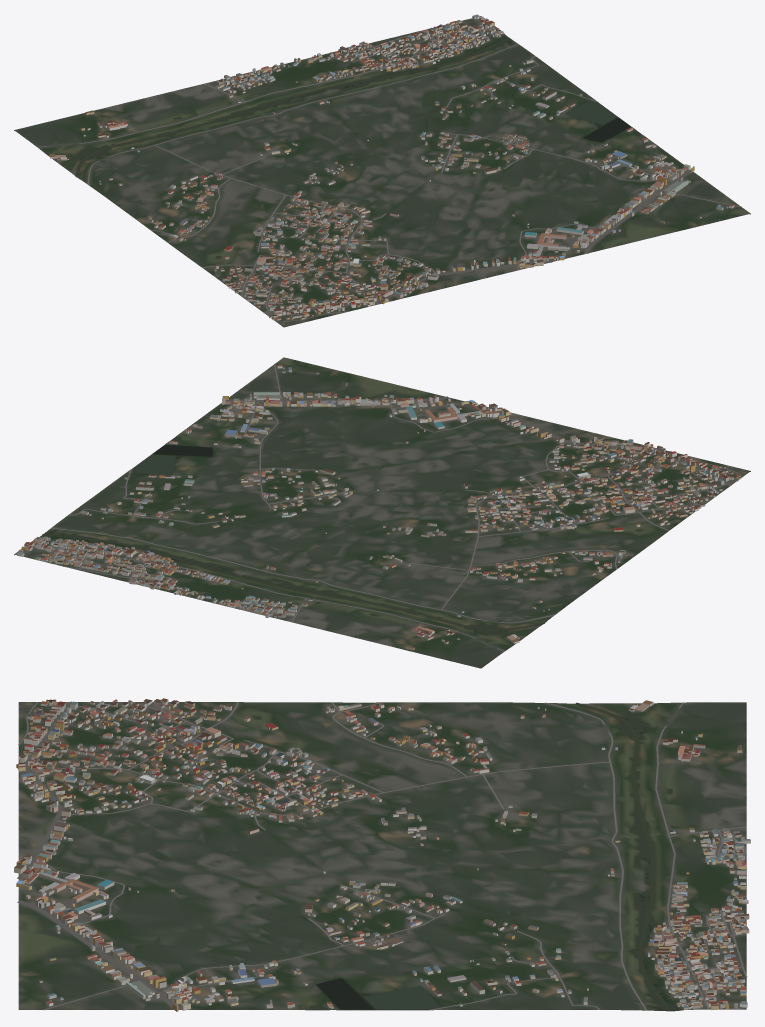
The picture shows the model from 3 angles, top to bottom: view 1: azimuth 30°, elevation 25°; view 2: azimuth 150°, elevation 25°; view 3: azimuth 270°, elevation 25°; orthographic projection. The views are drawn at different scales.
Visible parts, largest first — view 1: ground, buildings, roads, water; view 2: ground, buildings, roads, water; view 3: ground, buildings, roads, water.
Boxes of the visible parts, x1,y1,x2,y2 form: ground: (14, 16, 750, 327); buildings: (49, 14, 734, 320); roads: (37, 18, 741, 322); water: (75, 36, 641, 258); ground: (14, 357, 750, 668); buildings: (17, 364, 741, 650); roads: (17, 364, 743, 651); water: (41, 437, 642, 635); ground: (18, 702, 746, 1011); buildings: (14, 698, 750, 1011); roads: (17, 701, 747, 1010); water: (252, 702, 676, 1011).
Size of the model in its own units: 1413 by 23.4 by 1419.
